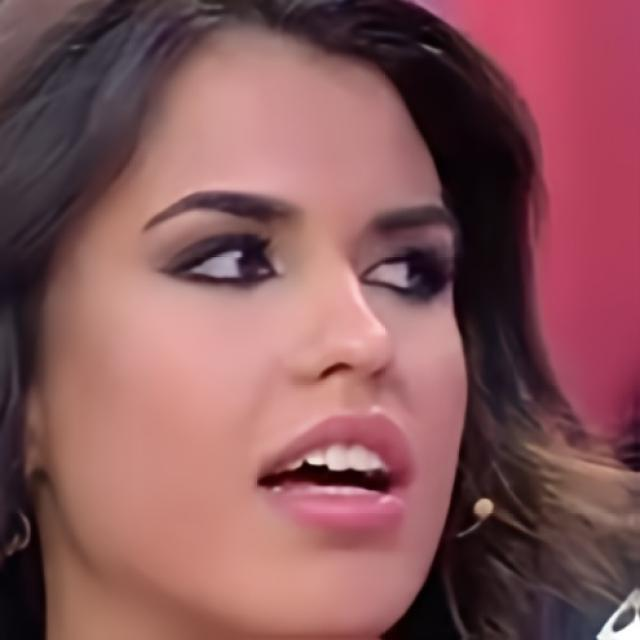surprise: (40, 19, 469, 640)
